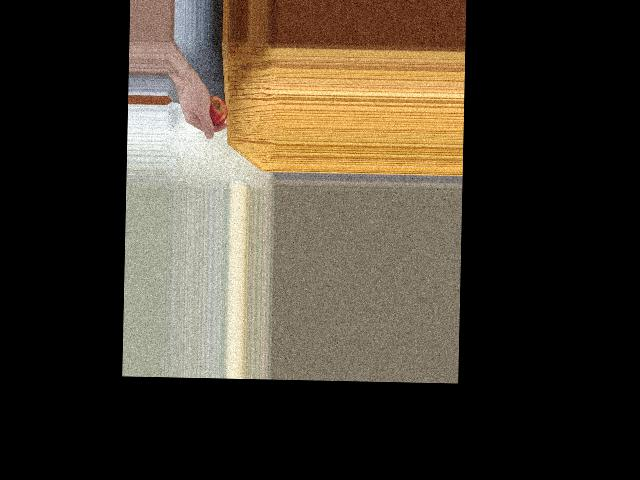apple: (201, 100, 230, 128)
